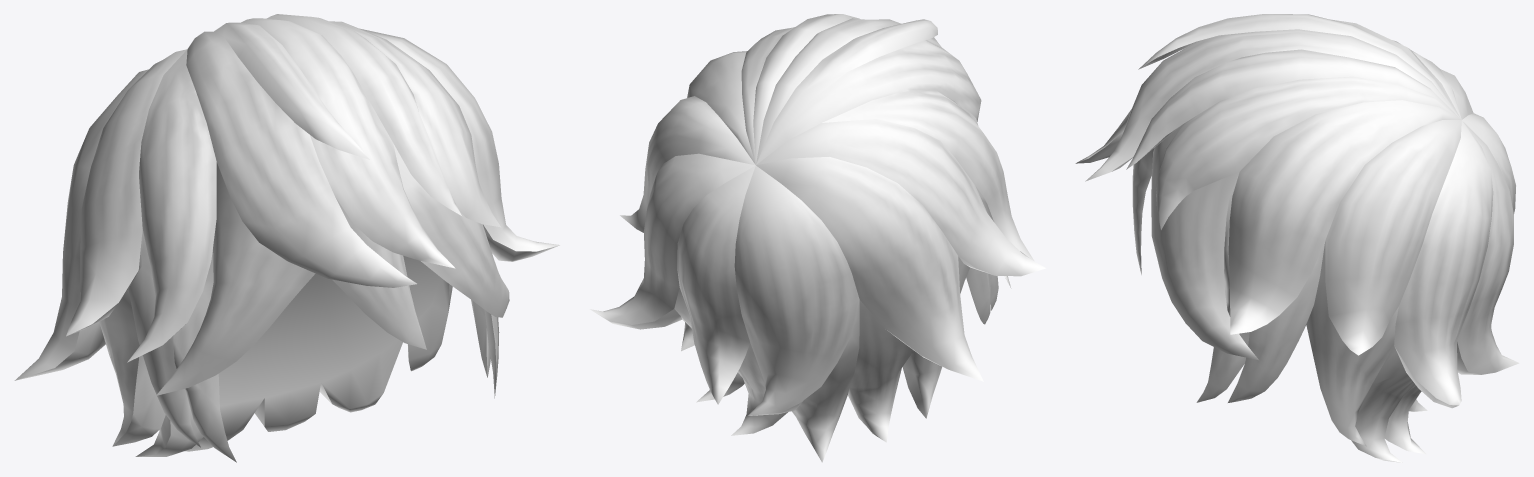
Rendered from CapWigVisual.glb.
The picture shows the model from 3 angles, left to right: view 1: azimuth 30°, elevation 25°; view 2: azimuth 150°, elevation 25°; view 3: azimuth 270°, elevation 25°; orthographic projection. The views are drawn at different scales.
Visible parts, largest first — view 1: Body__mCapHair; view 2: Body__mCapHair; view 3: Body__mCapHair.
Boxes of the visible parts, left/top/right/bottom form: Body__mCapHair: left=14, top=14, right=559, bottom=462; Body__mCapHair: left=590, top=14, right=1045, bottom=462; Body__mCapHair: left=1075, top=14, right=1519, bottom=462.
Bounding box in the file's own units: 10.35 × 9.54 × 9.54.
1 material, 1 textured.
